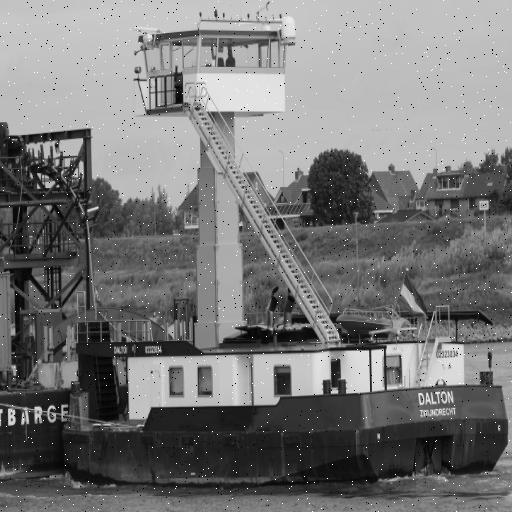tugboat: (59, 1, 512, 495)
